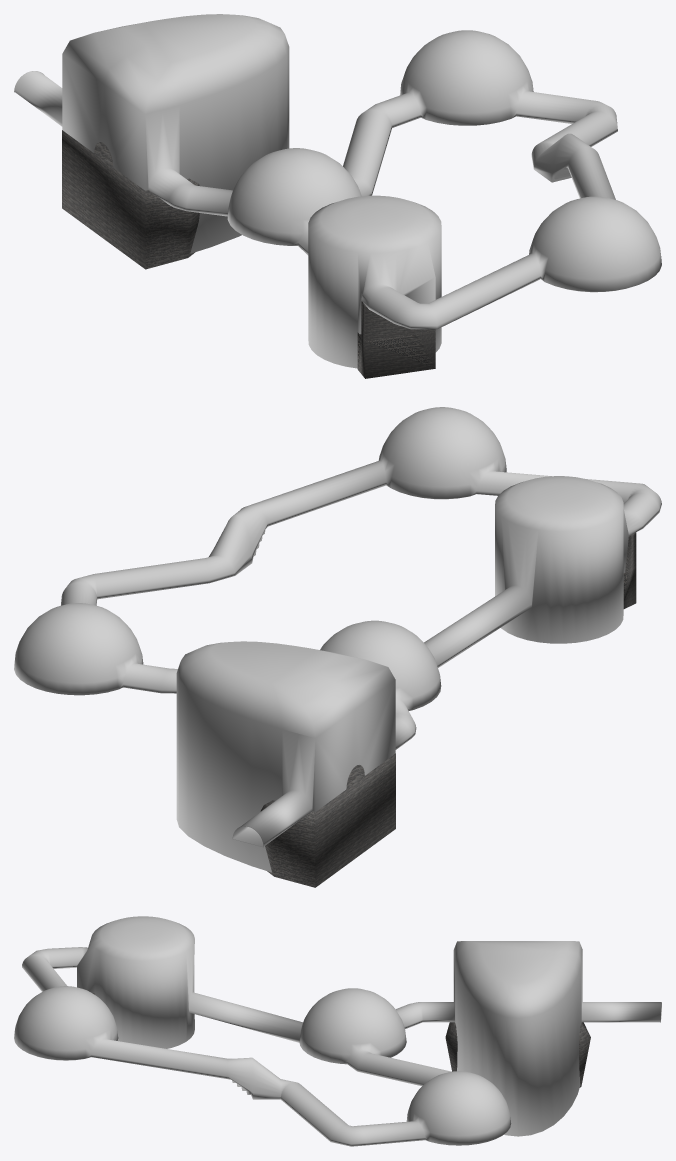
File: LiverLevel.fbx
3 views of the same model, one above another, from view 1: azimuth 30°, elevation 25°; view 2: azimuth 150°, elevation 25°; view 3: azimuth 270°, elevation 25° (orthographic). The views are drawn at different scales.
Parts seen in each view (by area): view 1: LiverLevel, LiverPlatform, LiverClimb; view 2: LiverLevel, LiverPlatform, LiverClimb; view 3: LiverLevel, LiverPlatform.
Boxes of the visible parts, bbox=[...] form: LiverLevel: bbox=[14, 14, 661, 368]; LiverPlatform: bbox=[62, 130, 199, 269]; LiverClimb: bbox=[357, 301, 435, 378]; LiverLevel: bbox=[14, 407, 661, 872]; LiverPlatform: bbox=[260, 753, 395, 887]; LiverClimb: bbox=[623, 532, 636, 608]; LiverLevel: bbox=[14, 916, 661, 1146]; LiverPlatform: bbox=[445, 1022, 590, 1087].
Bounding box in the file's own units: 9817 × 4326 × 16328.
